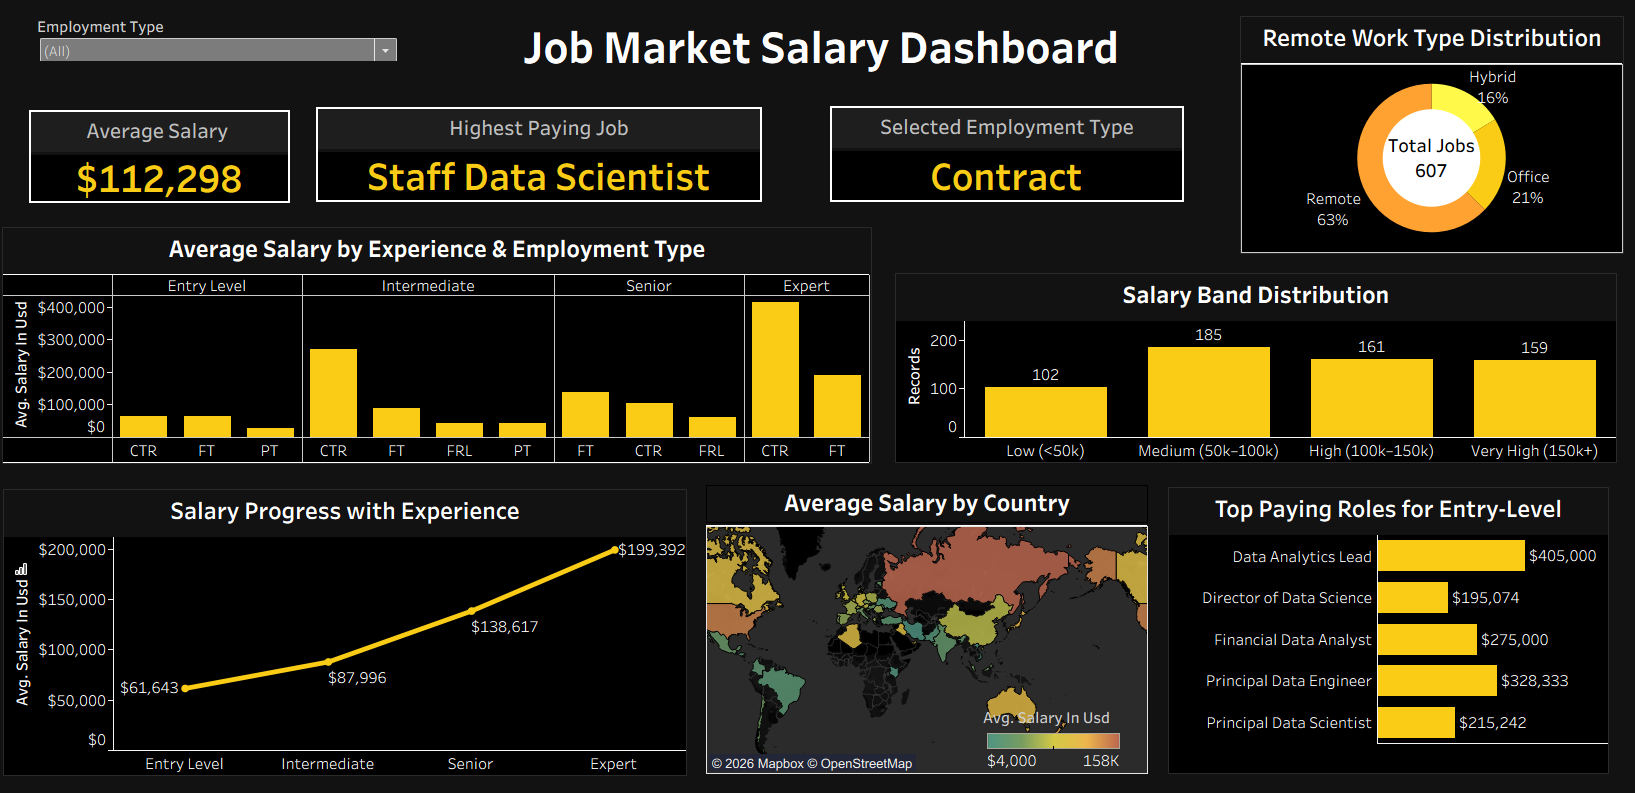

The dashboard page shown, as its layout file describes it:
{"tool":"tableau","page":{"name":"Dashboard 1","canvas":[1000,1000],"units":"permille","ordinal":0},"visuals":[{"type":"filter","title":"Average Salary by Experience & Employment Type","param":"[federated.0rmnove0lrf7lr111n72k0qycpab].[none:employment_type:nk]","box":[25.5,27.5,219.2,56.2]},{"type":"worksheet","title":"Remote Work Type Distribution","mark":"Pie","rows":["Calculation_1851260946196320261","Calculation_1851260946196320261"],"box":[751.4,27.5,231.7,297.1]},{"type":"worksheet","title":"Selected Employment Type","mark":"Text","box":[503.9,139.8,213.6,119.9]},{"type":"worksheet","title":"Highest Paying Job","mark":"Text","box":[193.7,141.1,269.2,118.6]},{"type":"worksheet","title":"Average Salary ","mark":"Text","box":[20.5,144.8,157.5,116.1]},{"type":"worksheet","title":"Average Salary by Experience & Employment Type","mark":"Bar","rows":["salary_in_usd"],"cols":["experience_level","employment_type"],"box":[4.2,290.9,525,295.9]},{"type":"worksheet","title":"Salary Band Distribution","mark":"Bar","rows":["job_title"],"cols":["Calculation_1851260946135461890"],"box":[543.1,348.3,435.7,237.2]},{"type":"worksheet","title":"Average Salary by Country","mark":"Multipolygon","box":[429.1,613,266.8,360.8]},{"type":"worksheet","title":"Top Paying Roles for Entry-Level","mark":"Bar","rows":["job_title"],"cols":["salary_in_usd"],"box":[707.9,615.5,266.1,358.3]},{"type":"worksheet","title":"Salary Progress with Experience","mark":"Line","rows":["salary_in_usd"],"cols":["experience_level"],"box":[4.8,618,412.8,358.3]},{"type":"legend","title":"Average Salary by Country","param":"[federated.0rmnove0lrf7lr111n72k0qycpab].[avg:salary_in_usd:qk]","box":[596.3,890.1,85.1,76.2]}]}

Visuals, with their boxes on the dashboard's canvas, which has no fixed pixel size, in thousandths of its width and height (x1, y1, x2, y2). These are canvas units, not pixel positions in the 1635x793 screenshot, which may show the page scaled, cropped or inside an application window:
"Average Salary by Experience & Employment Type" filter: pyautogui.locateOnScreen(26, 28, 245, 84)
"Remote Work Type Distribution" worksheet (Pie marks): pyautogui.locateOnScreen(751, 28, 983, 325)
"Selected Employment Type" worksheet (Text marks): pyautogui.locateOnScreen(504, 140, 718, 260)
"Highest Paying Job" worksheet (Text marks): pyautogui.locateOnScreen(194, 141, 463, 260)
"Average Salary " worksheet (Text marks): pyautogui.locateOnScreen(20, 145, 178, 261)
"Average Salary by Experience & Employment Type" worksheet (Bar marks): pyautogui.locateOnScreen(4, 291, 529, 587)
"Salary Band Distribution" worksheet (Bar marks): pyautogui.locateOnScreen(543, 348, 979, 586)
"Average Salary by Country" worksheet (Multipolygon marks): pyautogui.locateOnScreen(429, 613, 696, 974)
"Top Paying Roles for Entry-Level" worksheet (Bar marks): pyautogui.locateOnScreen(708, 616, 974, 974)
"Salary Progress with Experience" worksheet (Line marks): pyautogui.locateOnScreen(5, 618, 418, 976)
"Average Salary by Country" legend: pyautogui.locateOnScreen(596, 890, 681, 966)
